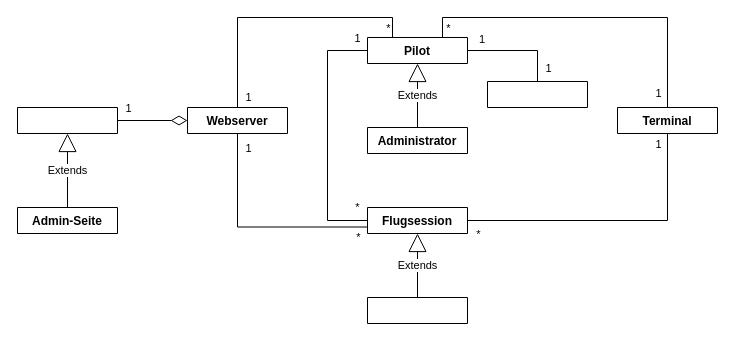
Image size: 735x341. Some labels were removed from this diagram. The centre of each missing label's shape, as x and y in pixels:
"Flugleiter" goes at point (417, 310).
"RFID-Chip" goes at point (537, 94).
"Webseite" goes at point (67, 120).
